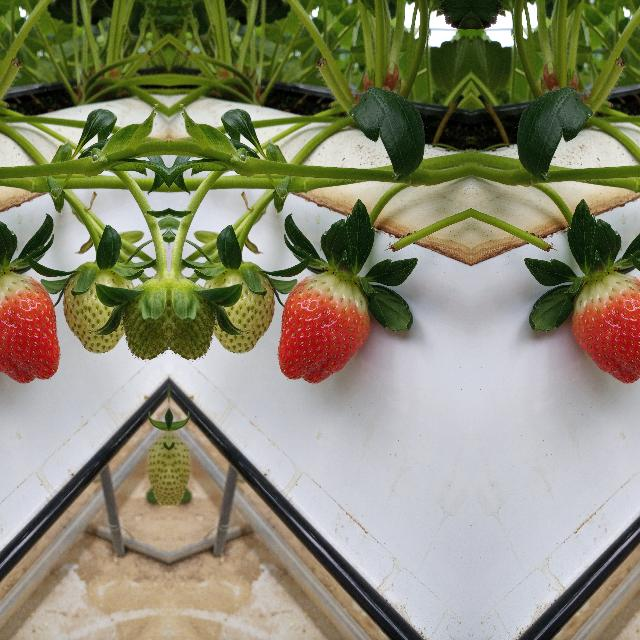Health_100: (276, 270, 370, 384), (570, 269, 640, 384), (0, 269, 60, 384)
Health_25: (205, 244, 275, 352), (61, 244, 131, 352), (168, 258, 210, 372), (126, 258, 168, 372)
